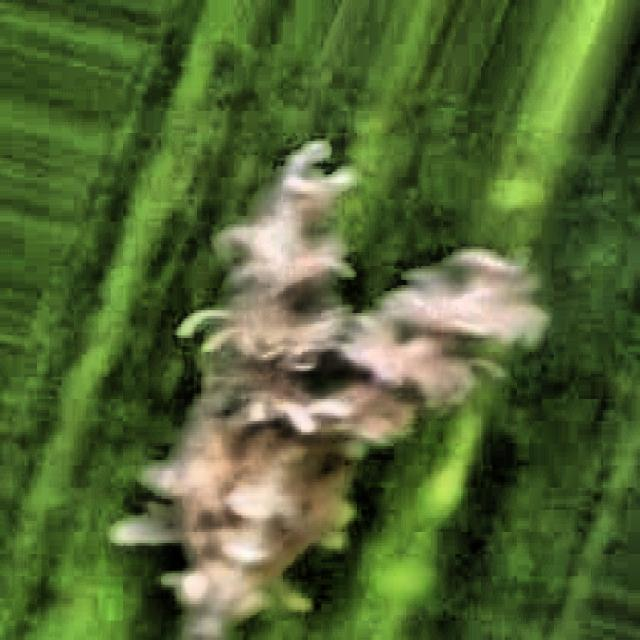Pyrilla-perpusilla: (125, 154, 500, 640)
